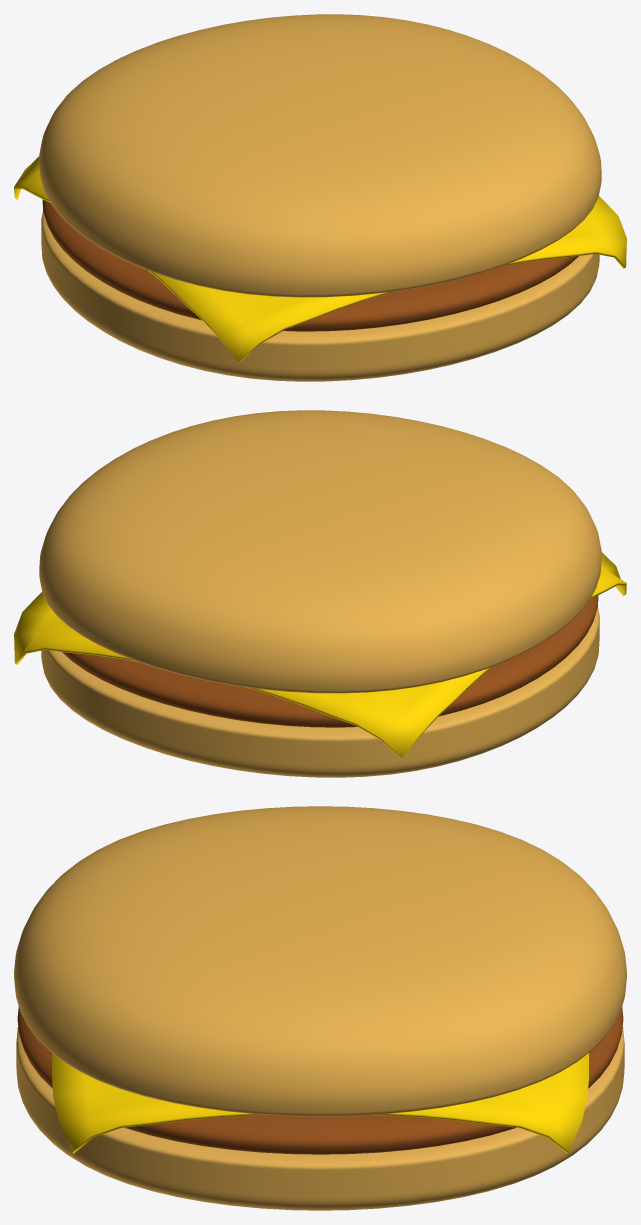
The model's file is hamburger.glb.
The picture shows the model from 3 angles, top to bottom: view 1: azimuth 30°, elevation 25°; view 2: azimuth 150°, elevation 25°; view 3: azimuth 270°, elevation 25°; orthographic projection. The views are drawn at different scales.
Parts seen in each view (by area): view 1: Cube.002, Cube, Cube.001, Plane; view 2: Cube.002, Cube, Cube.001, Plane; view 3: Cube.002, Cube, Plane, Cube.001.
Boxes of the visible parts, <box> form: Cube.002: <box>39,14,601,297</box>; Cube: <box>41,211,599,381</box>; Cube.001: <box>42,199,578,331</box>; Plane: <box>14,156,626,362</box>; Cube.002: <box>39,410,601,693</box>; Cube: <box>41,607,599,777</box>; Cube.001: <box>62,595,598,727</box>; Plane: <box>14,552,626,758</box>; Cube.002: <box>14,806,626,1116</box>; Cube: <box>16,1027,624,1210</box>; Plane: <box>52,1053,588,1153</box>; Cube.001: <box>17,1006,623,1154</box>.
Bounding box in the file's own units: 12.78 × 5.04 × 12.78.
